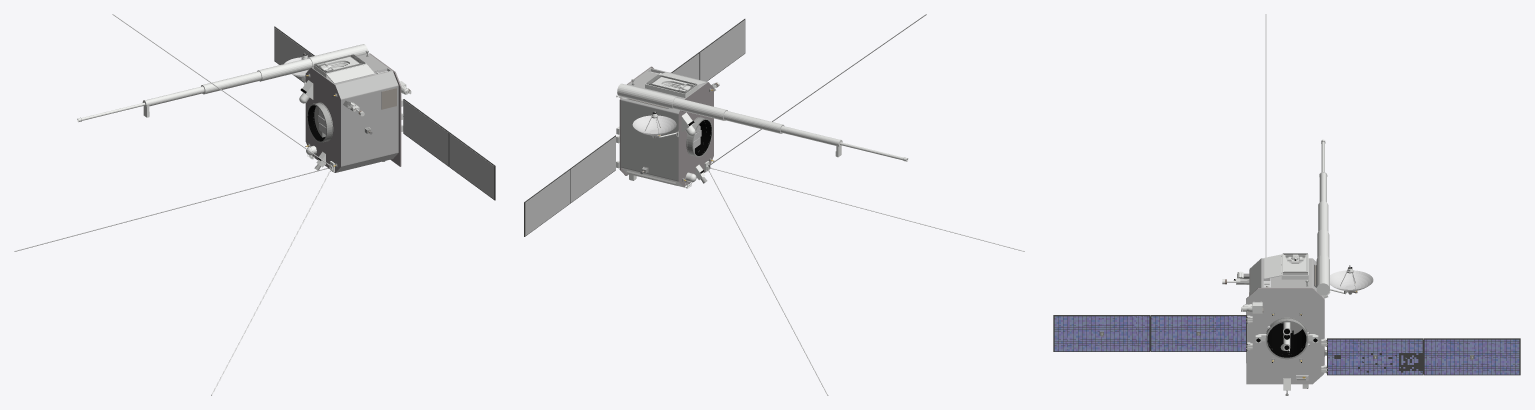
File: stereo.glb
3 renders of one model, left to right at view 1: azimuth 30°, elevation 25°; view 2: azimuth 150°, elevation 25°; view 3: azimuth 270°, elevation 25°, orthographic. The views are drawn at different scales.
Visible parts, largest first — view 1: Layer_0; view 2: Layer_0; view 3: Layer_0.
Part boxes in pixels (left/top/right/bottom): Layer_0: left=14, top=14, right=495, bottom=395; Layer_0: left=524, top=14, right=1024, bottom=395; Layer_0: left=1053, top=14, right=1520, bottom=395.
Bounding box in the file's own units: 5.79 × 5.81 × 7.5.
